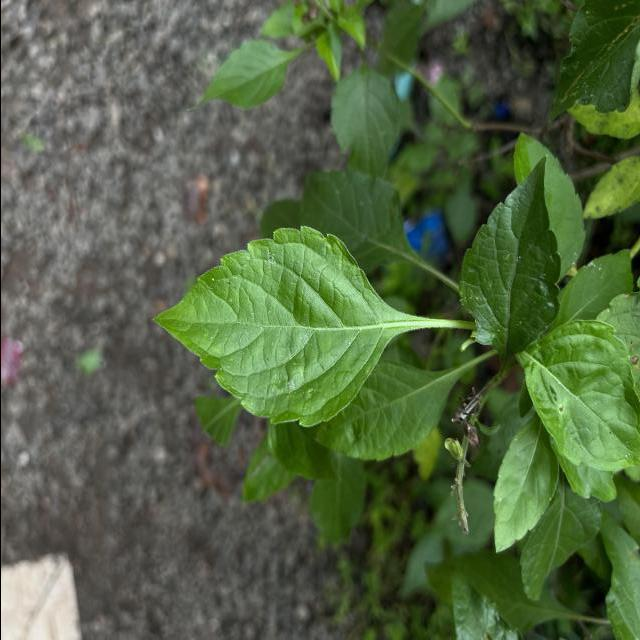Ocimum gratissimum: (148, 223, 424, 432), (456, 152, 564, 373)
